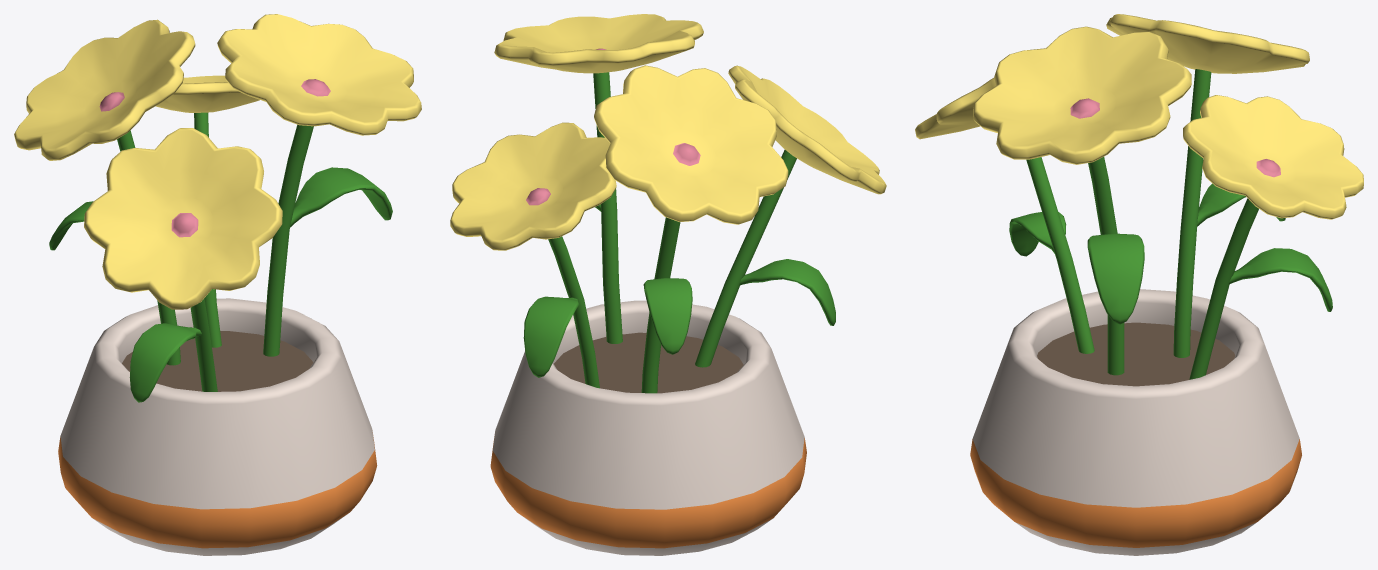
File: Flower_2.glb
The picture shows the model from 3 angles, left to right: view 1: azimuth 30°, elevation 25°; view 2: azimuth 150°, elevation 25°; view 3: azimuth 270°, elevation 25°; orthographic projection. The views are drawn at different scales.
Visible parts, largest first — view 1: Flower_2; view 2: Flower_2; view 3: Flower_2.
Part boxes in pixels (left/top/right/bottom): Flower_2: left=14, top=14, right=421, bottom=555; Flower_2: left=450, top=14, right=886, bottom=555; Flower_2: left=915, top=14, right=1363, bottom=555.
Size of the model in its own units: 0.9698 by 1.25 by 1.07.
1 material, 1 textured.
